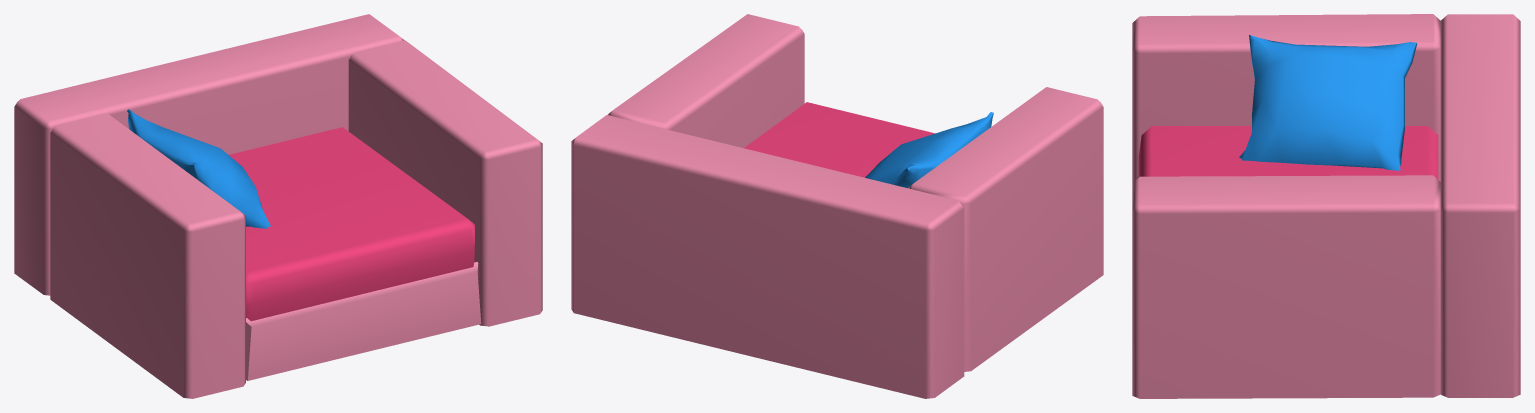
The model's file is armchair_015.fbx.
The picture shows the model from 3 angles, left to right: view 1: azimuth 30°, elevation 25°; view 2: azimuth 150°, elevation 25°; view 3: azimuth 270°, elevation 25°; orthographic projection. The views are drawn at different scales.
Parts seen in each view (by area): view 1: armchair_015; view 2: armchair_015; view 3: armchair_015.
Boxes of the visible parts, x1=… form: armchair_015: x1=14, y1=14, x2=542, y2=398; armchair_015: x1=571, y1=14, x2=1103, y2=398; armchair_015: x1=1132, y1=14, x2=1520, y2=398.
Size of the model in its own units: 126 by 106 by 61.35.
